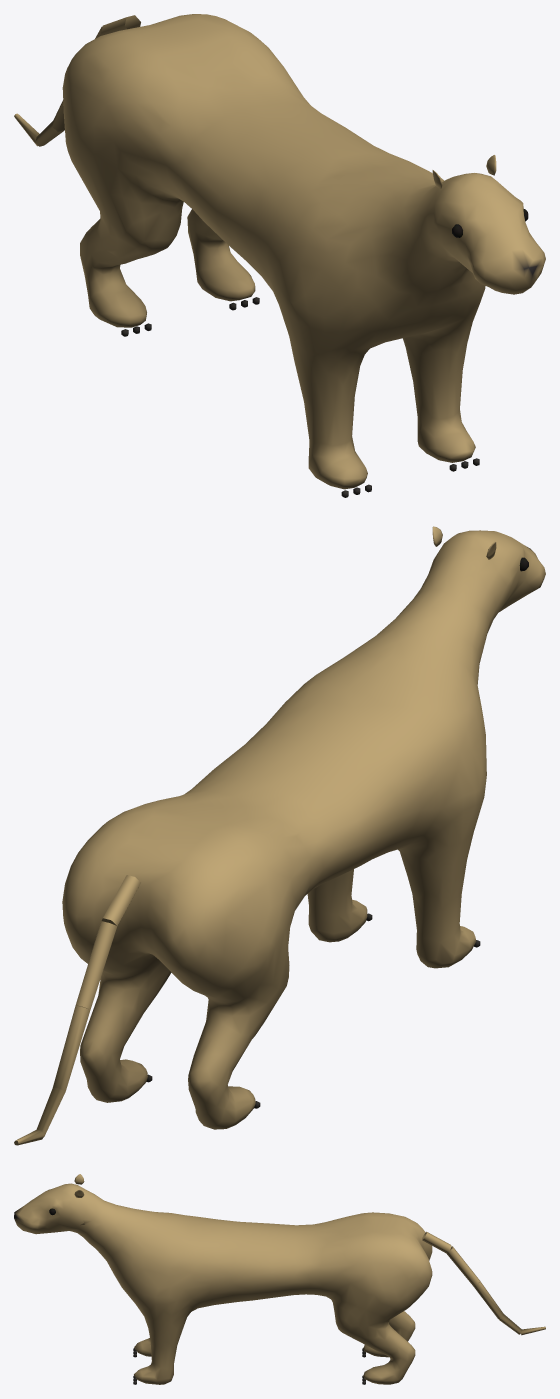
Rendered from jaguar.glb.
The picture shows the model from 3 angles, top to bottom: view 1: azimuth 30°, elevation 25°; view 2: azimuth 150°, elevation 25°; view 3: azimuth 270°, elevation 25°; orthographic projection. The views are drawn at different scales.
Visible parts, largest first — view 1: lack; view 2: lack; view 3: lack.
Boxes of the visible parts, <box> form: lack: <box>14,14,545,497</box>; lack: <box>14,526,545,1145</box>; lack: <box>14,1174,545,1384</box>.
Bounding box in the file's own units: 0.5263 × 0.9142 × 2.36.
